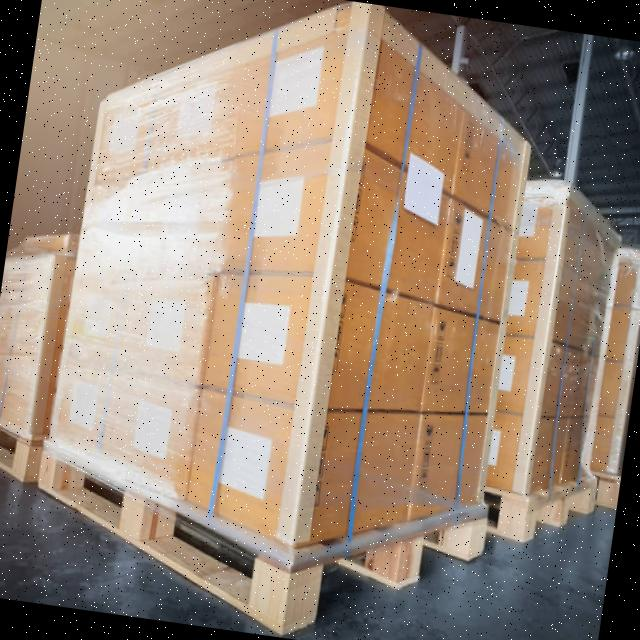Wooden-Pallets: (24, 429, 489, 637), (508, 467, 603, 558)
